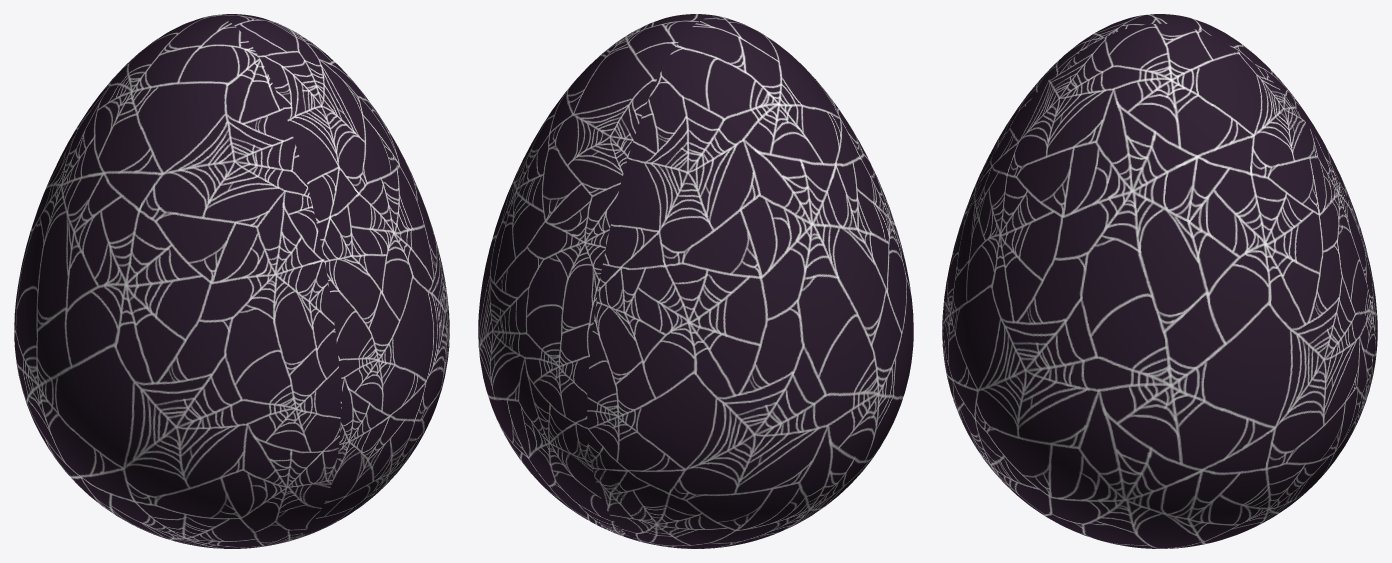
File: easter_egg.fbx
The picture shows the model from 3 angles, left to right: view 1: azimuth 30°, elevation 25°; view 2: azimuth 150°, elevation 25°; view 3: azimuth 270°, elevation 25°; orthographic projection.
Parts seen in each view (by area): view 1: Sphere; view 2: Sphere; view 3: Sphere.
Part boxes in pixels (x1,y1,x2,y2): Sphere: (14, 14, 449, 548); Sphere: (478, 14, 913, 548); Sphere: (942, 14, 1377, 548).
Bounding box in the file's own units: 200 × 256 × 200.
1 material, 1 textured.
